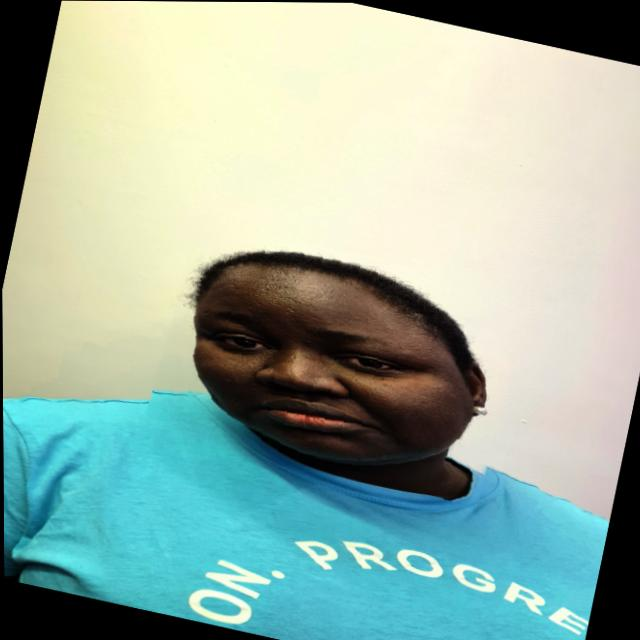sad: (144, 215, 530, 505)
